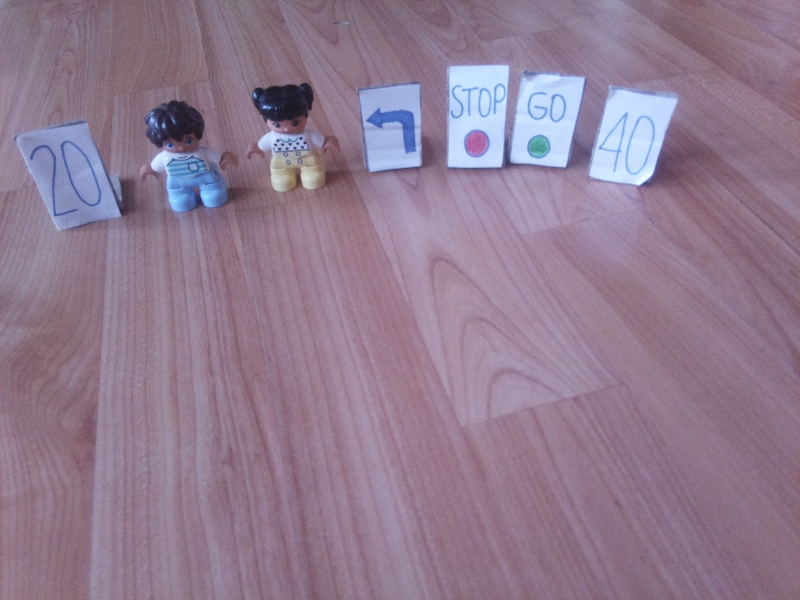20: (28, 134, 101, 218)
40: (601, 110, 656, 179)
go: (522, 86, 569, 158)
person: (135, 104, 244, 211), (249, 82, 341, 203)
stop: (452, 71, 503, 160)
turn left: (366, 105, 423, 161)
